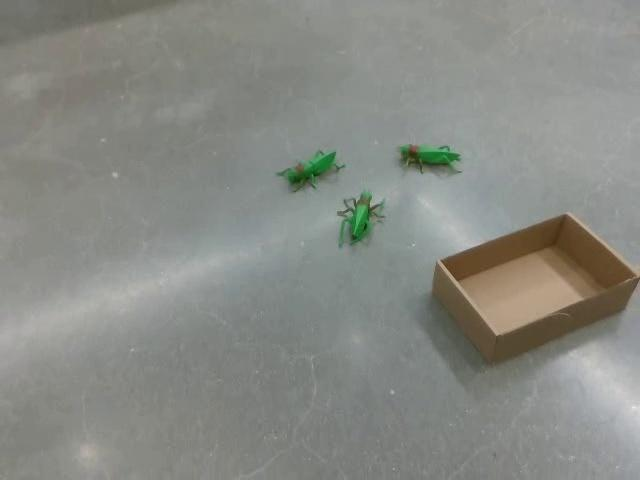box: (431, 211, 639, 365)
grasshopper: (275, 148, 345, 192), (336, 189, 385, 248), (397, 142, 462, 174)
